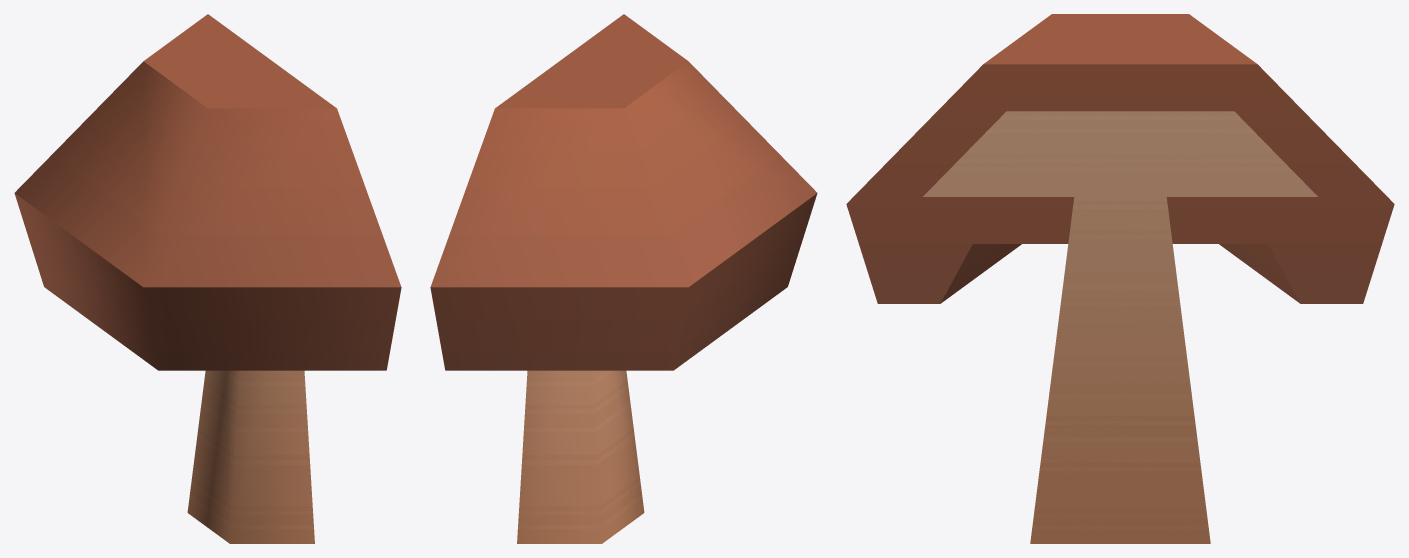
File: food-mushroom-half.glb
3 renders of one model, left to right at view 1: azimuth 30°, elevation 25°; view 2: azimuth 150°, elevation 25°; view 3: azimuth 270°, elevation 25°, orthographic. The views are drawn at different scales.
Parts seen in each view (by area): view 1: mushroom-half; view 2: mushroom-half; view 3: mushroom-half.
Boxes of the visible parts, x1,y1,x2,y2 form: mushroom-half: (14, 14, 401, 543); mushroom-half: (430, 14, 817, 543); mushroom-half: (846, 14, 1394, 543).
Bounding box in the file's own units: 0.0624 × 0.1392 × 0.1442.
Materials: 1 (1 with a texture image).
